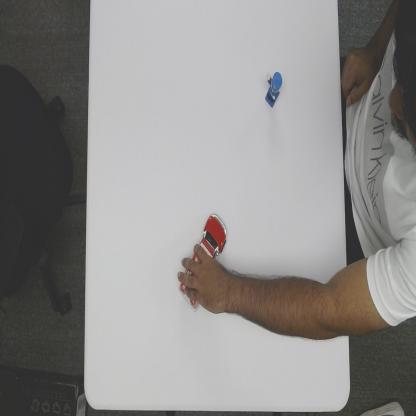Arm: (225, 270, 348, 342)
Firetruck: (178, 211, 228, 312)
Hand: (179, 244, 230, 316)
